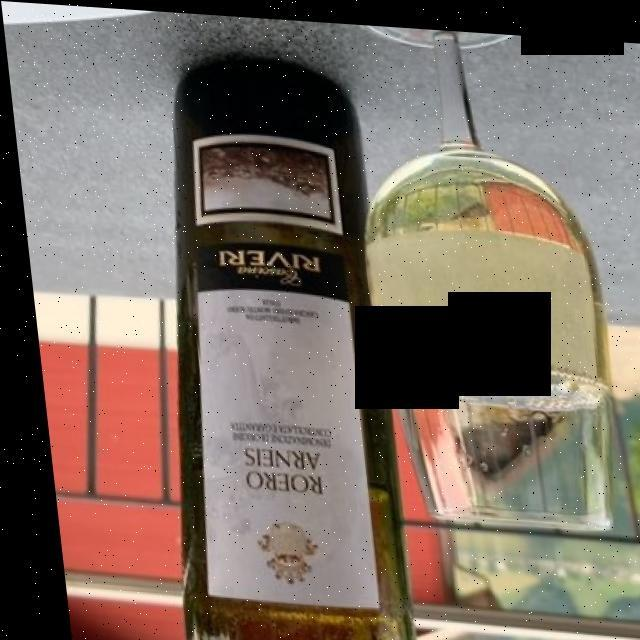wine: (368, 165, 595, 403)
